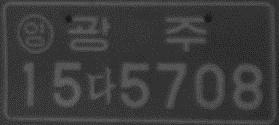0: (193, 62, 226, 111)
1: (13, 61, 44, 108)
5: (51, 60, 83, 108), (119, 62, 151, 108)
7: (156, 60, 189, 111)
8: (231, 62, 264, 112)
광주_D: (66, 15, 208, 52)
다: (86, 67, 117, 106)
영: (15, 12, 55, 55)
